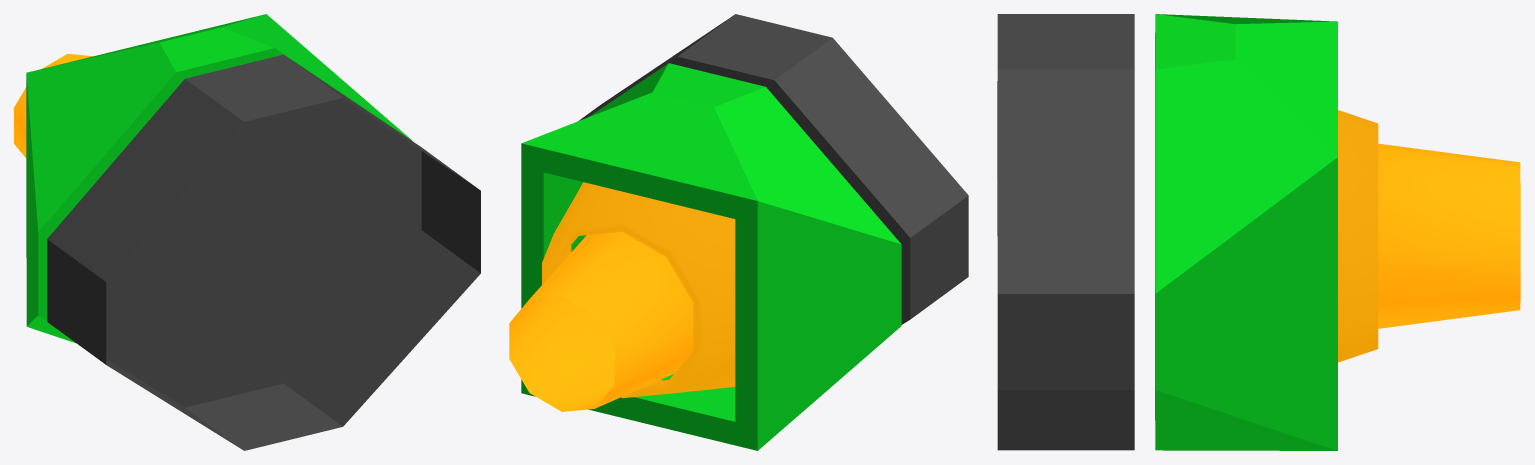
The model's file is teleport.glb.
3 views of the same model, side by side, from view 1: azimuth 30°, elevation 25°; view 2: azimuth 150°, elevation 25°; view 3: azimuth 270°, elevation 25° (orthographic). The views are drawn at different scales.
Visible parts, largest first — view 1: Plane.006, boost-part.010; view 2: Plane.006, boost-part.010; view 3: Plane.006, boost-part.010.
Part boxes in pixels (x1,y1,x2,y2): Plane.006: [26, 14, 480, 450]; boost-part.010: [14, 53, 92, 157]; Plane.006: [521, 14, 968, 450]; boost-part.010: [509, 231, 693, 411]; Plane.006: [997, 14, 1378, 450]; boost-part.010: [1378, 143, 1520, 328].
Bounding box in the file's own units: 0.1713 × 0.1437 × 0.1789.
